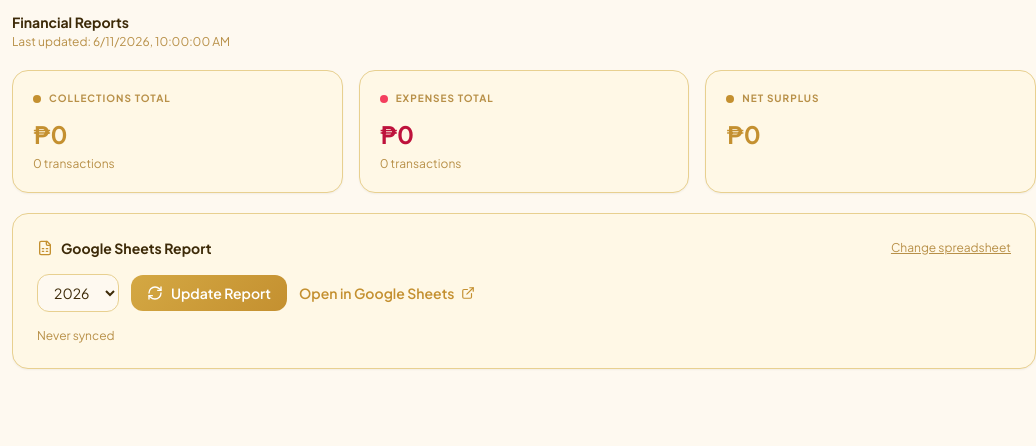
Test: configured: failed sync shows the error message
Click the button "Update Report": coordinates (209, 293) [131, 275, 287, 311]
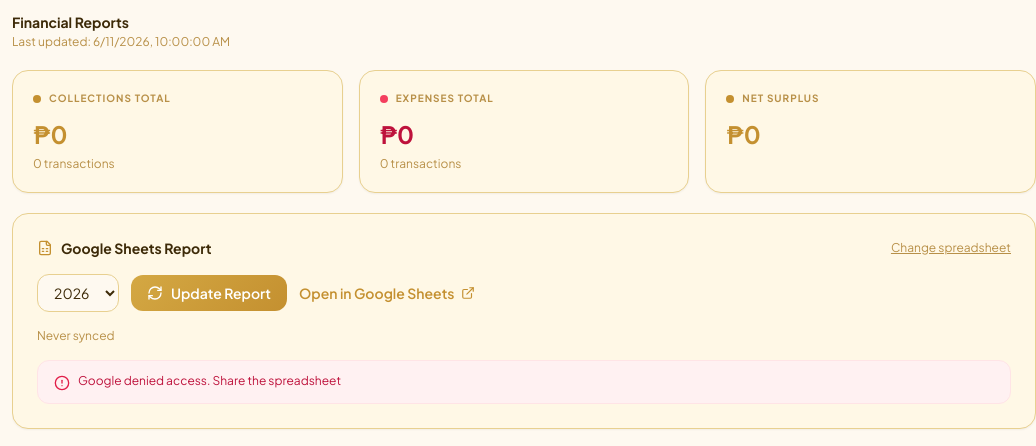
Now the text "Google denied access. Share the spreadsheet" is shown, box [78, 373, 341, 389]
